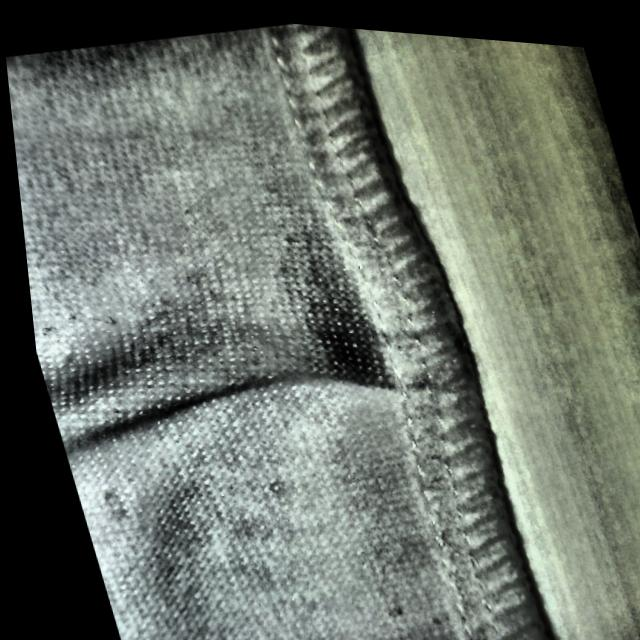seam: (161, 257, 490, 480)
